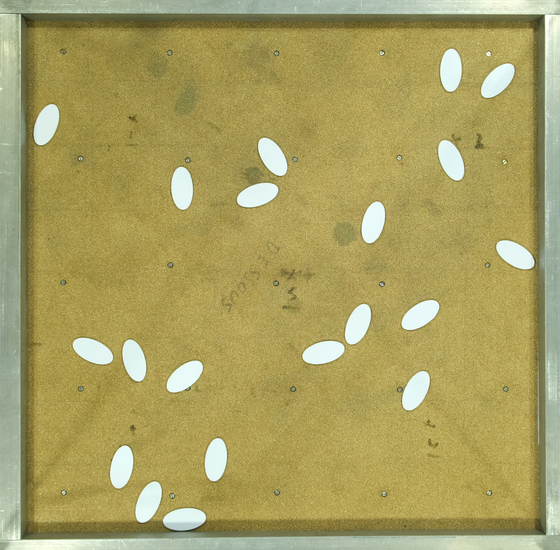pallet: (159, 165, 204, 210), (298, 326, 343, 371), (399, 295, 444, 340), (335, 300, 380, 345), (494, 231, 539, 276), (477, 58, 522, 103), (431, 47, 476, 92), (428, 139, 473, 184), (235, 175, 280, 220), (346, 199, 391, 244), (251, 134, 296, 179), (22, 102, 67, 147), (161, 494, 206, 539), (125, 479, 170, 524), (100, 445, 145, 490), (193, 438, 238, 483), (68, 331, 113, 376), (388, 369, 433, 414), (160, 351, 205, 396), (112, 337, 157, 382)
